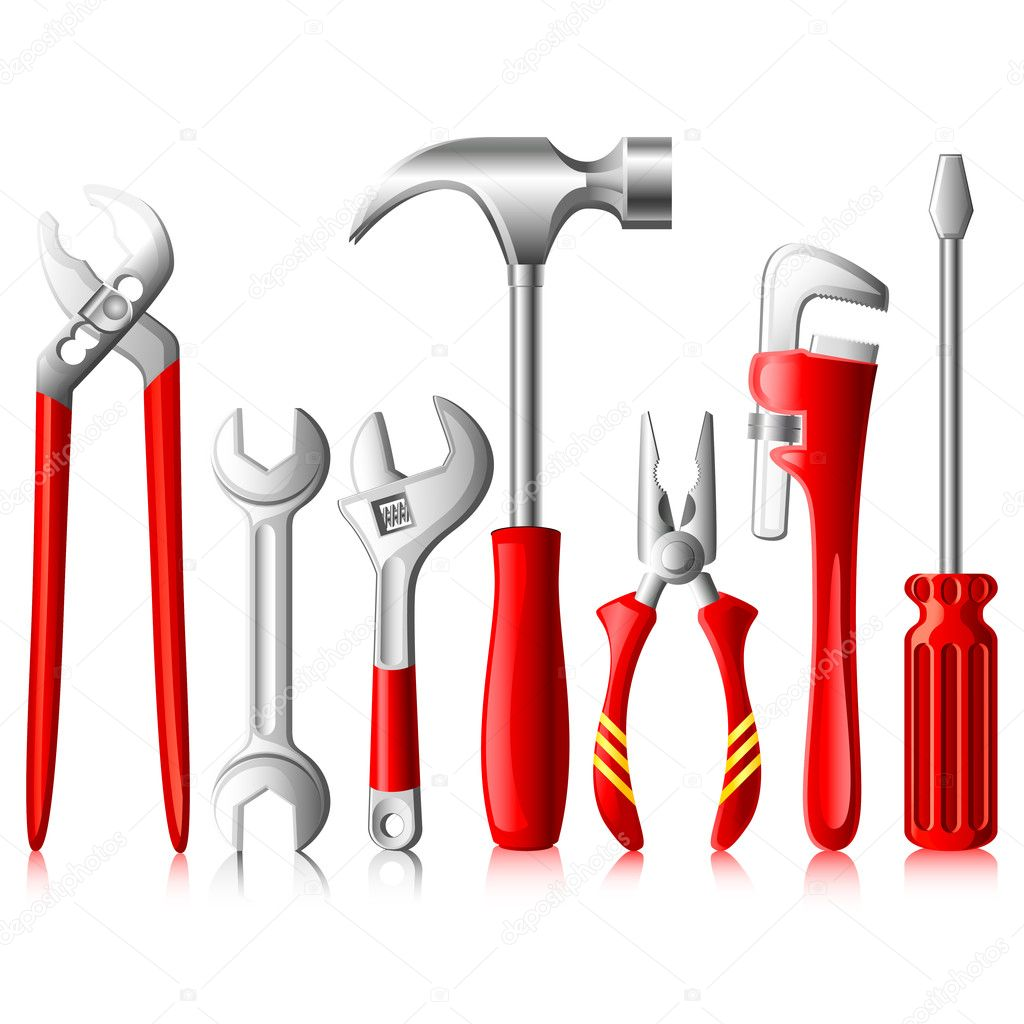Job: (200, 379, 354, 879)
